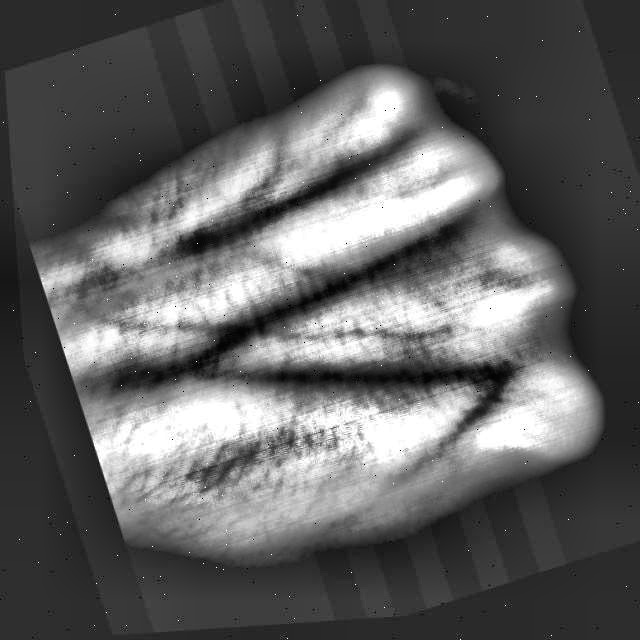Vein: (231, 362, 433, 393)
